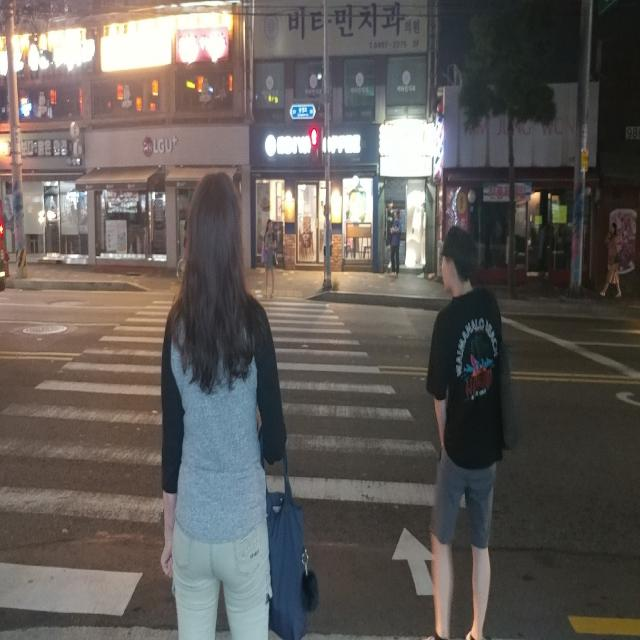빨간불: (310, 123, 319, 164)
횡단보도: (0, 298, 467, 615)
